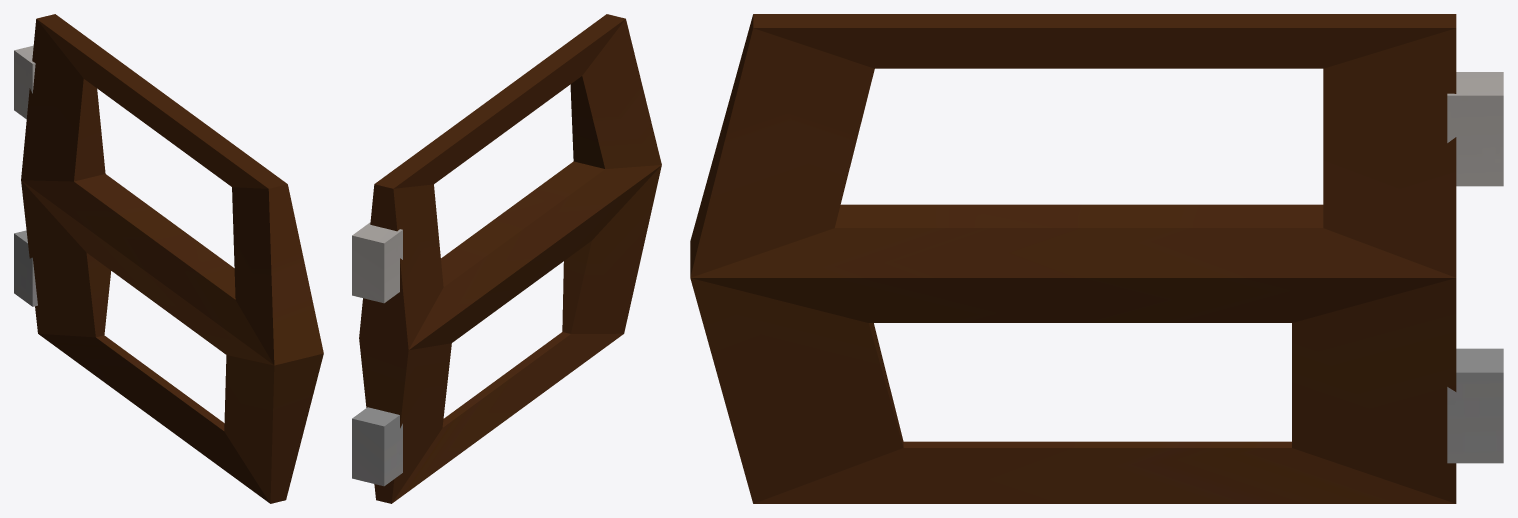
File: saloonDoors.fbx
The picture shows the model from 3 angles, left to right: view 1: azimuth 30°, elevation 25°; view 2: azimuth 150°, elevation 25°; view 3: azimuth 270°, elevation 25°; orthographic projection. The views are drawn at different scales.
Visible parts, largest first — view 1: Cube, Cube.002, Cube.001; view 2: Cube, Cube.002, Cube.001; view 3: Cube, Cube.002, Cube.001.
Part boxes in pixels (x1,y1,x2,y2): Cube: [21, 14, 323, 503]; Cube.002: [14, 230, 37, 306]; Cube.001: [14, 45, 35, 118]; Cube: [359, 14, 661, 503]; Cube.002: [352, 407, 402, 486]; Cube.001: [352, 222, 402, 303]; Cube: [690, 14, 1456, 503]; Cube.002: [1447, 348, 1503, 463]; Cube.001: [1447, 72, 1503, 186].
Bounding box in the file's own units: 53.37 × 325 × 502.
Materials: 1 (1 with a texture image).
